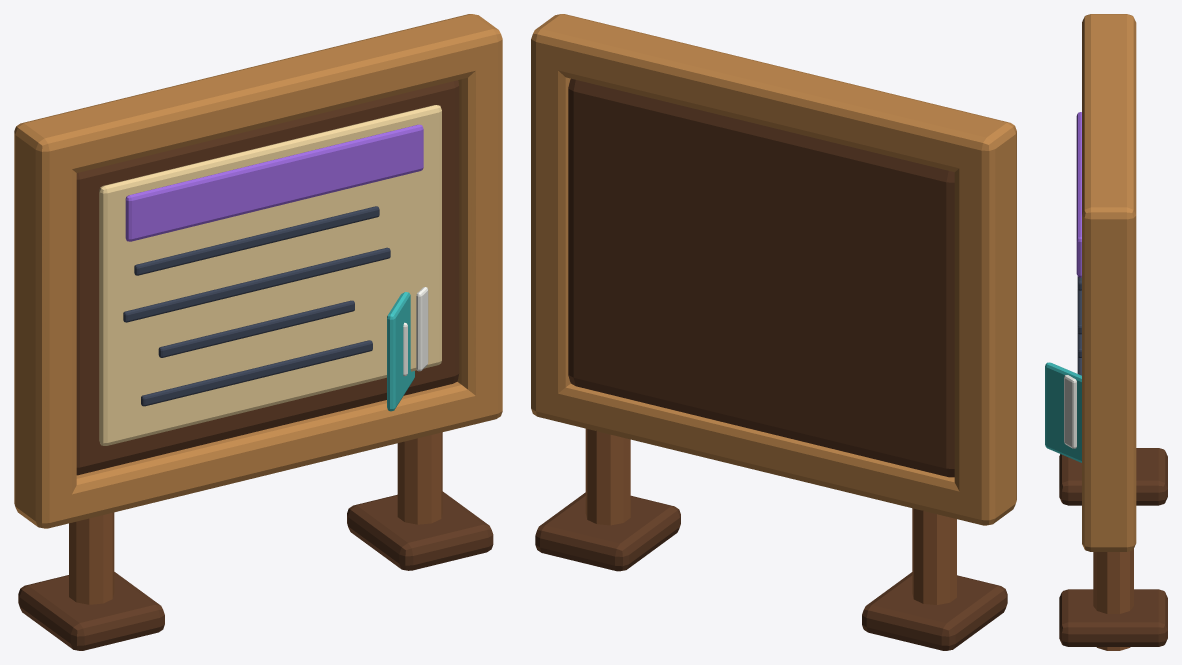
File: grove_guild_charter_board.glb
3 views of the same model, side by side, from view 1: azimuth 30°, elevation 25°; view 2: azimuth 150°, elevation 25°; view 3: azimuth 270°, elevation 25° (orthographic). The views are drawn at different scales.
Visible parts, largest first — view 1: Board_Charter_Page, Board_Frame_Top, Board_Back, Board_Frame_Left, Board_Frame_Bottom, Board_Frame_Right, Board_Title_Band, Board_Foot_0.74, Board_Foot_-0.74, Board_Post_-0.74, Board_Post_0.74, Board_Clause_2 (+5 smaller); view 2: Board_Back, Board_Frame_Top, Board_Frame_Left, Board_Frame_Bottom, Board_Frame_Right, Board_Foot_0.74, Board_Foot_-0.74, Board_Post_0.74, Board_Post_-0.74; view 3: Board_Frame_Right, Board_Frame_Top, Board_Foot_0.74, Board_Foot_-0.74, Board_Post_0.74, Board_Shield, Board_Frame_Bottom, Board_Title_Band, Board_Check_B, Board_Clause_2.
Boxes of the visible parts, x1=… form: Board_Charter_Page: x1=99, y1=105, x2=441, y2=445; Board_Frame_Top: x1=14, y1=14, x2=502, y2=174; Board_Back: x1=76, y1=80, x2=459, y2=475; Board_Frame_Left: x1=14, y1=136, x2=76, y2=519; Board_Frame_Bottom: x1=14, y1=382, x2=502, y2=528; Board_Frame_Right: x1=457, y1=45, x2=502, y2=414; Board_Title_Band: x1=125, y1=124, x2=423, y2=241; Board_Foot_0.74: x1=347, y1=491, x2=493, y2=570; Board_Foot_-0.74: x1=18, y1=572, x2=164, y2=650; Board_Post_-0.74: x1=69, y1=512, x2=114, y2=604; Board_Post_0.74: x1=397, y1=432, x2=442, y2=524; Board_Clause_2: x1=123, y1=247, x2=390, y2=322; Board_Back: x1=568, y1=78, x2=954, y2=477; Board_Frame_Top: x1=531, y1=14, x2=1016, y2=173; Board_Frame_Left: x1=954, y1=134, x2=1016, y2=516; Board_Frame_Bottom: x1=531, y1=383, x2=1016, y2=525; Board_Frame_Right: x1=531, y1=43, x2=570, y2=412; Board_Foot_0.74: x1=535, y1=492, x2=680, y2=571; Board_Foot_-0.74: x1=862, y1=572, x2=1007, y2=650; Board_Post_0.74: x1=585, y1=428, x2=630, y2=525; Board_Post_-0.74: x1=912, y1=508, x2=956, y2=604; Board_Frame_Right: x1=1082, y1=219, x2=1136, y2=544; Board_Frame_Top: x1=1082, y1=14, x2=1136, y2=239; Board_Foot_0.74: x1=1059, y1=589, x2=1167, y2=646; Board_Foot_-0.74: x1=1059, y1=448, x2=1167, y2=505; Board_Post_0.74: x1=1093, y1=549, x2=1133, y2=650; Board_Shield: x1=1045, y1=362, x2=1081, y2=462; Board_Frame_Bottom: x1=1082, y1=523, x2=1136, y2=551; Board_Title_Band: x1=1076, y1=112, x2=1081, y2=277; Board_Check_B: x1=1064, y1=375, x2=1076, y2=448; Board_Clause_2: x1=1077, y1=289, x2=1081, y2=334.
Bounding box in the file's own units: 2.1 × 2.25 × 0.5424.
